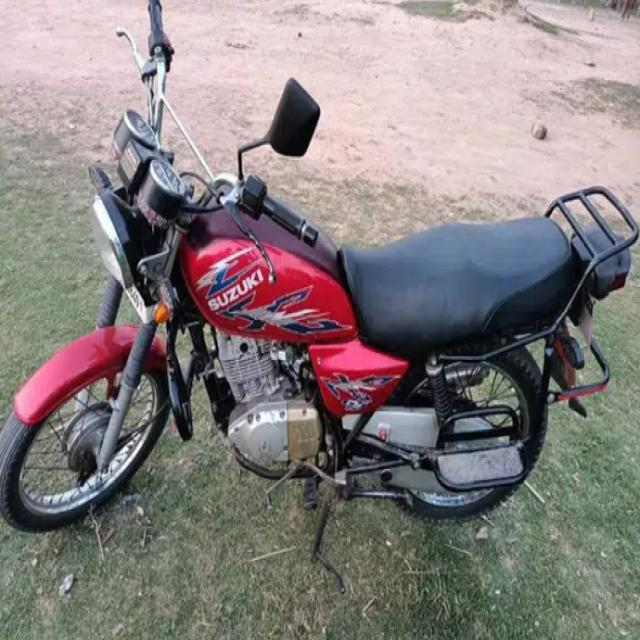Bike: (0, 67, 640, 576)
